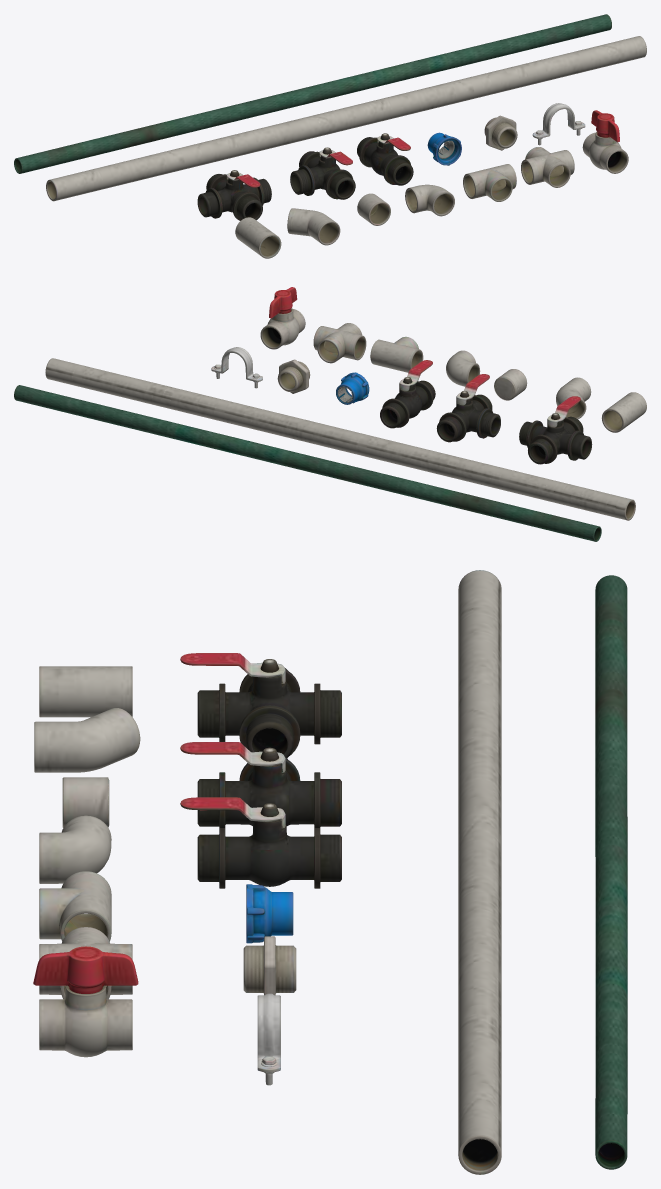
3 renders of one model, top to bottom at view 1: azimuth 30°, elevation 25°; view 2: azimuth 150°, elevation 25°; view 3: azimuth 270°, elevation 25°, orthographic. The views are drawn at different scales.
Visible parts, largest first — view 1: straight_pvc_pipe_01, garden_pipe, garden_pipe_connector_01, garden_pipe_connector_02, garden_pipe_connector_03, pvc_ball_valve, pvc_connector_01, pvc_connector_02, pvc_connector_05, pvc_connector_03, pvc_connector_06, pvc_connector_07 (+3 smaller); view 2: straight_pvc_pipe_01, garden_pipe, garden_pipe_connector_01, garden_pipe_connector_02, garden_pipe_connector_03, pvc_ball_valve, pvc_connector_01, pvc_connector_02, pvc_connector_06, pvc_connector_03, pvc_connector_07, pvc_connector_05 (+3 smaller); view 3: straight_pvc_pipe_01, garden_pipe, garden_pipe_connector_01, pvc_ball_valve, garden_pipe_connector_03, garden_pipe_connector_02, pvc_connector_05, pvc_connector_06, pvc_connector_02, pvc_connector_03, pvc_connector_07, garden_pipe_connector (+3 smaller).
Part boxes in pixels (bbox=[...]): straight_pvc_pipe_01: bbox=[46, 36, 646, 201]; garden_pipe: bbox=[14, 14, 611, 173]; garden_pipe_connector_01: bbox=[197, 170, 271, 220]; garden_pipe_connector_02: bbox=[290, 147, 355, 199]; garden_pipe_connector_03: bbox=[357, 133, 413, 185]; pvc_ball_valve: bbox=[582, 110, 628, 173]; pvc_connector_01: bbox=[521, 147, 574, 187]; pvc_connector_02: bbox=[463, 164, 516, 201]; pvc_connector_05: bbox=[287, 208, 340, 245]; pvc_connector_03: bbox=[405, 184, 454, 216]; pvc_connector_06: bbox=[235, 217, 281, 258]; pvc_connector_07: bbox=[484, 115, 517, 150]; straight_pvc_pipe_01: bbox=[45, 358, 635, 520]; garden_pipe: bbox=[14, 385, 601, 541]; garden_pipe_connector_01: bbox=[519, 396, 592, 464]; garden_pipe_connector_02: bbox=[436, 374, 500, 442]; garden_pipe_connector_03: bbox=[380, 360, 435, 428]; pvc_ball_valve: bbox=[260, 287, 305, 349]; pvc_connector_01: bbox=[313, 323, 366, 363]; pvc_connector_02: bbox=[370, 336, 423, 372]; pvc_connector_06: bbox=[601, 392, 646, 432]; pvc_connector_03: bbox=[446, 350, 480, 386]; pvc_connector_07: bbox=[277, 359, 310, 393]; pvc_connector_05: bbox=[556, 377, 591, 419]; straight_pvc_pipe_01: bbox=[458, 570, 501, 1174]; garden_pipe: bbox=[595, 575, 627, 1169]; garden_pipe_connector_01: bbox=[180, 653, 341, 757]; pvc_ball_valve: bbox=[33, 946, 138, 1057]; garden_pipe_connector_03: bbox=[180, 797, 341, 888]; garden_pipe_connector_02: bbox=[180, 742, 341, 827]; pvc_connector_05: bbox=[34, 708, 140, 772]; pvc_connector_06: bbox=[39, 666, 132, 717]; pvc_connector_02: bbox=[39, 871, 111, 941]; pvc_connector_03: bbox=[39, 815, 111, 883]; pvc_connector_07: bbox=[243, 936, 296, 995]; garden_pipe_connector: bbox=[246, 884, 293, 943].
Size of the model in its own units: 0.8157 by 0.0757 by 0.3618.
Materials: 1 (1 with a texture image).
